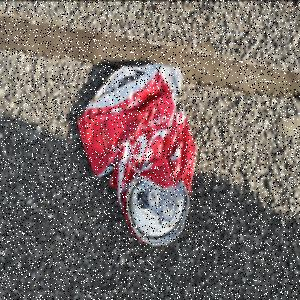Can: (78, 62, 198, 248)
